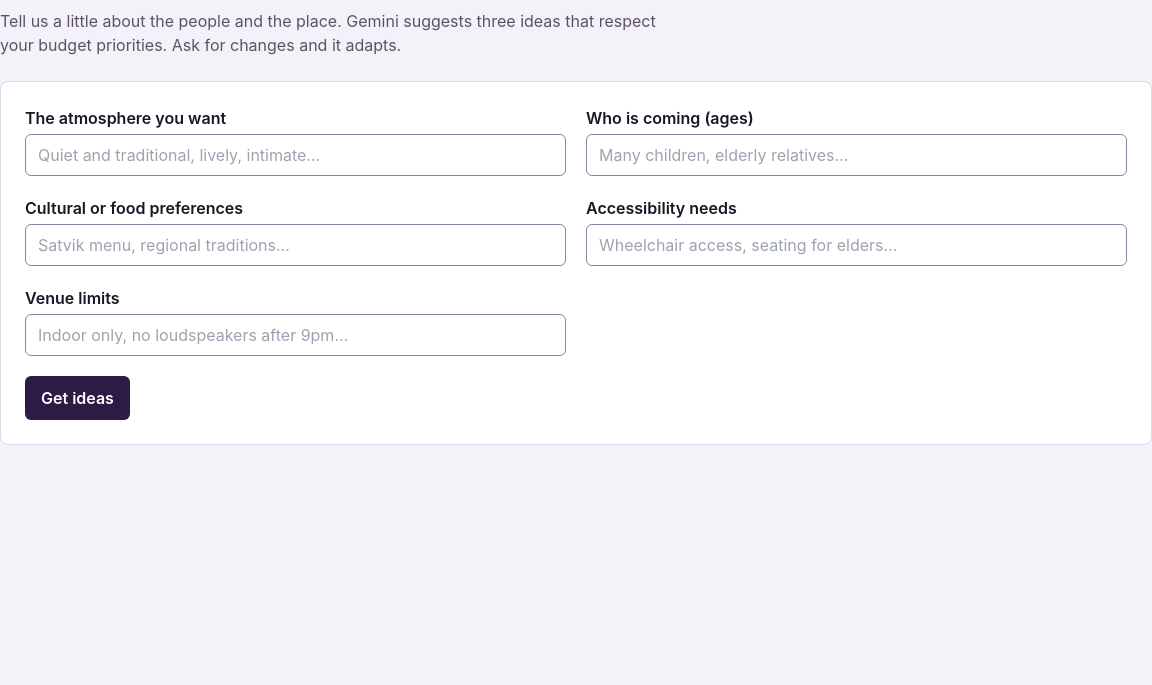
Test: ideas › sends the plan and preferences, shows three ideas with effort and category, and saves preferences
Type "quiet and traditional" into the field labelled "The atmosphere you want" at (296, 155), box x1=25 y1=134 x2=566 y2=176
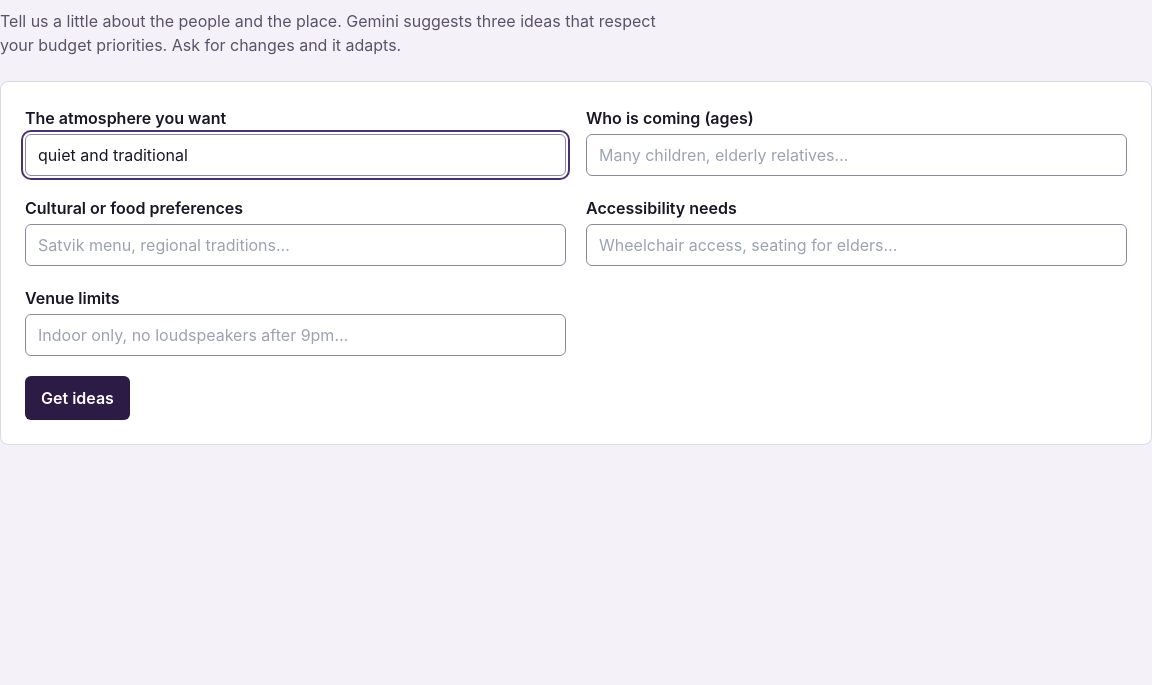
Type "many elders" into the field labelled "Who is coming (ages)" at (856, 155), box x1=586 y1=134 x2=1127 y2=176
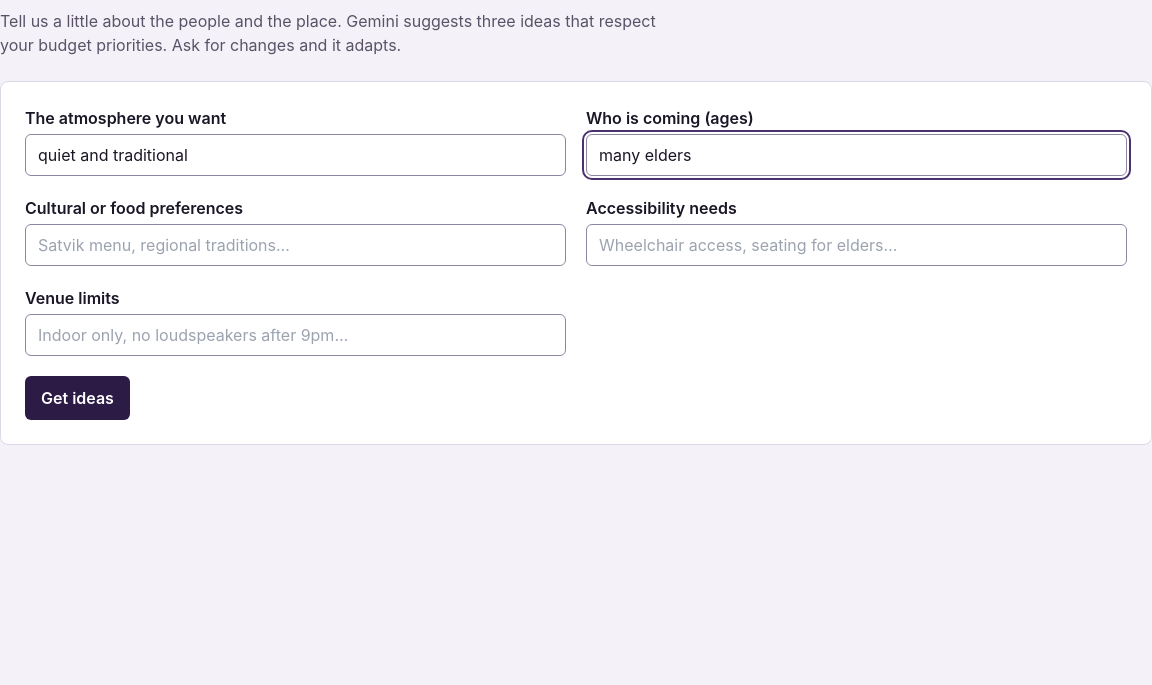
Click the button "Get ideas" at (77, 398), box x1=25 y1=376 x2=130 y2=420
(page scrolled)
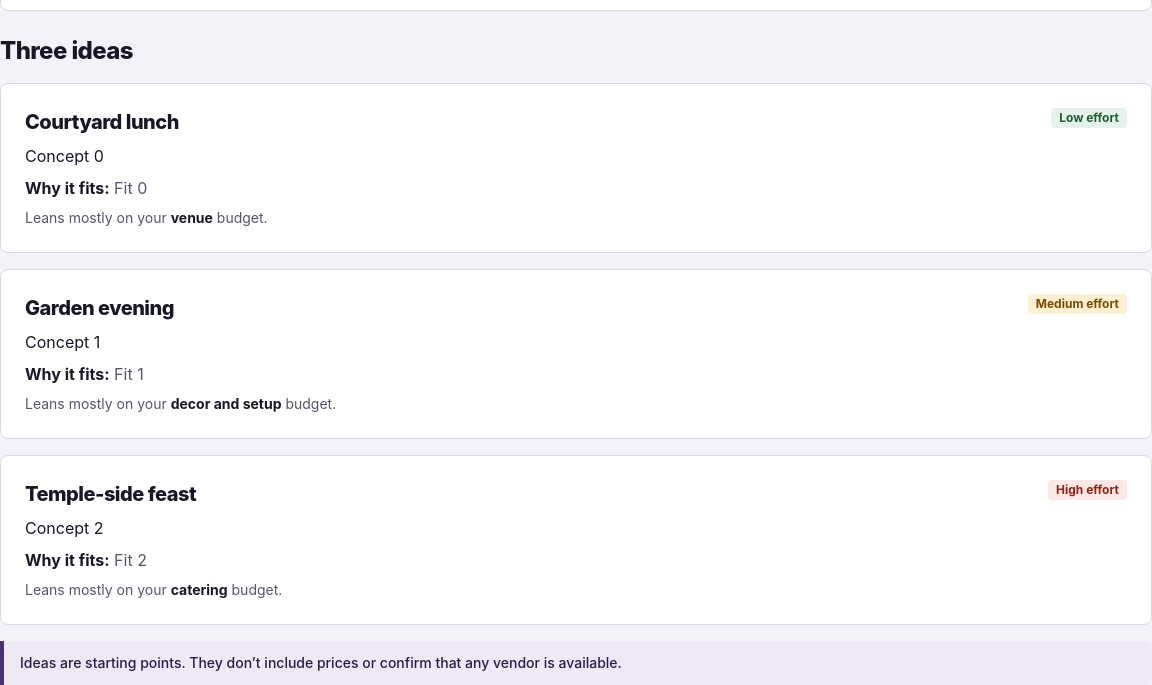
Result: the heading "Courtyard lunch" is shown at x1=25 y1=108 x2=179 y2=136
Result: the text "High effort" is shown at x1=1048 y1=480 x2=1127 y2=500
Result: the text "Leans mostly on your venue budget." is shown 3 times at x1=25 y1=209 x2=268 y2=226; x1=25 y1=395 x2=336 y2=412; x1=25 y1=581 x2=282 y2=598
